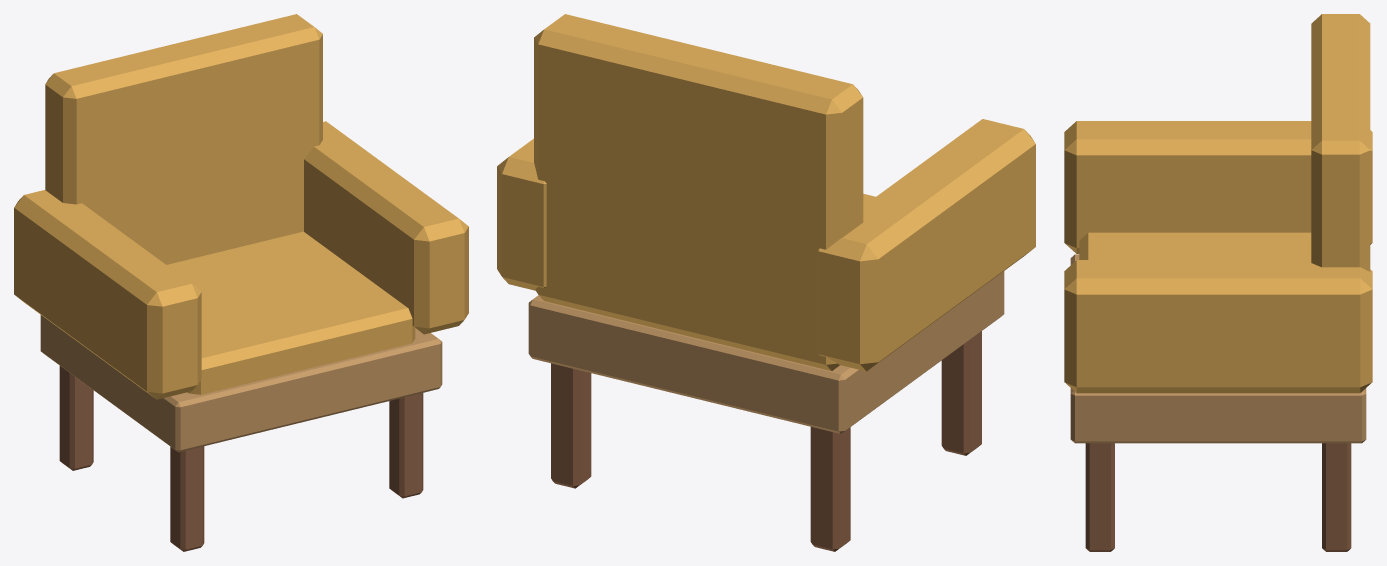
File: SM_CH_Paper_Armchair.fbx
3 views of the same model, side by side, from view 1: azimuth 30°, elevation 25°; view 2: azimuth 150°, elevation 25°; view 3: azimuth 270°, elevation 25° (orthographic). The views are drawn at different scales.
Visible parts, largest first — view 1: SM_CH_Paper_Armchair; view 2: SM_CH_Paper_Armchair; view 3: SM_CH_Paper_Armchair.
Part boxes in pixels (x1,y1,x2,y2): SM_CH_Paper_Armchair: [14, 14, 468, 551]; SM_CH_Paper_Armchair: [497, 14, 1035, 551]; SM_CH_Paper_Armchair: [1064, 14, 1372, 551].
Size of the model in its own units: 9400 by 7300 by 10800.
